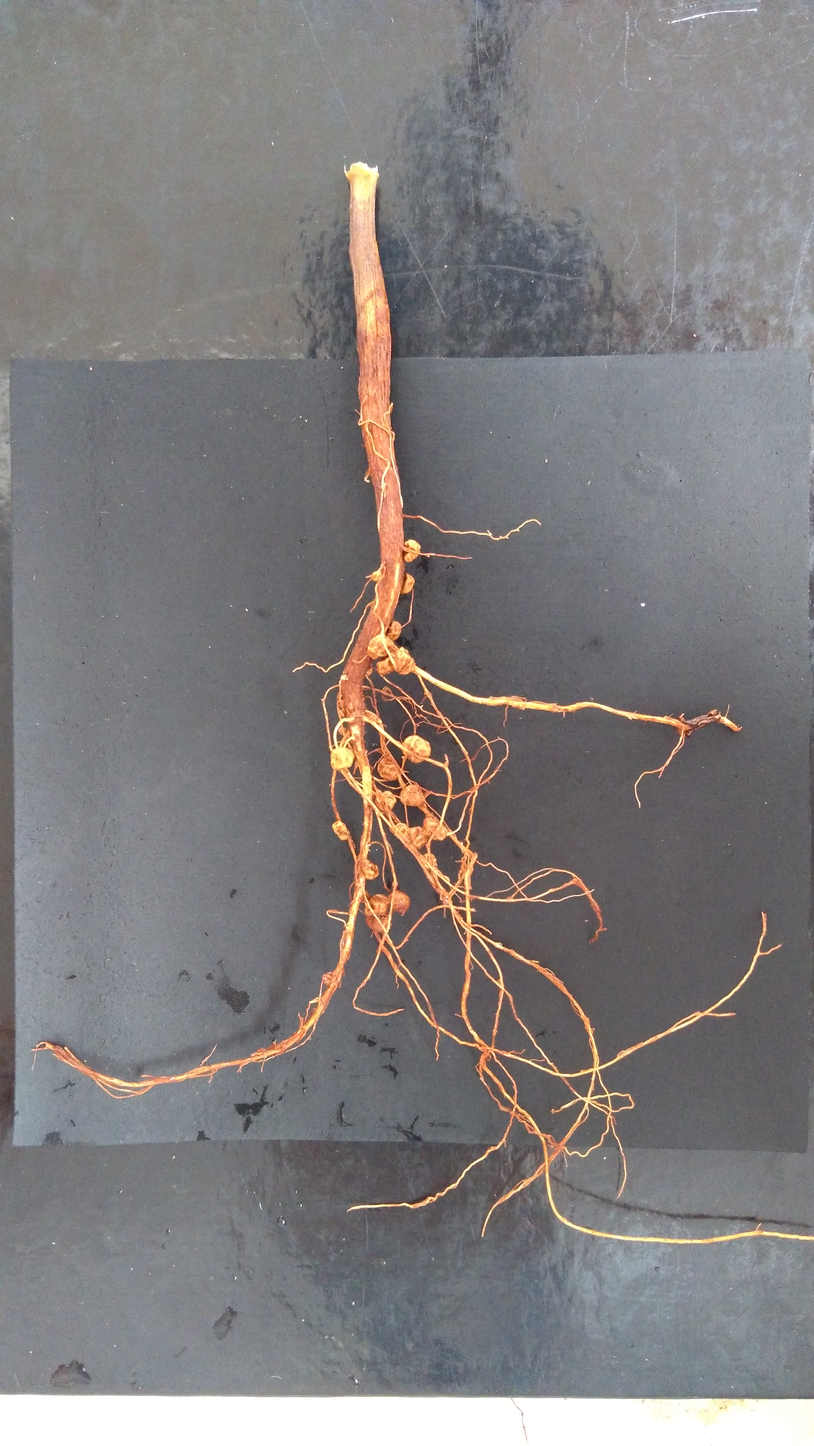nodule: (402, 735, 431, 764), (366, 634, 395, 659), (392, 646, 415, 676), (365, 893, 391, 918), (423, 814, 447, 841), (330, 746, 355, 770), (377, 756, 401, 781), (399, 784, 423, 807), (405, 826, 429, 849), (374, 790, 396, 812), (388, 891, 410, 913), (366, 914, 391, 933), (360, 858, 379, 881), (331, 820, 350, 841), (404, 539, 421, 562), (386, 621, 402, 642), (376, 657, 394, 675), (400, 573, 415, 594), (390, 822, 408, 838), (422, 853, 437, 869), (321, 971, 334, 985), (370, 570, 382, 581), (360, 889, 370, 902), (480, 1045, 489, 1058), (364, 666, 373, 677), (336, 698, 344, 707), (337, 727, 346, 735), (339, 708, 346, 718), (337, 691, 343, 700), (391, 880, 398, 887)
